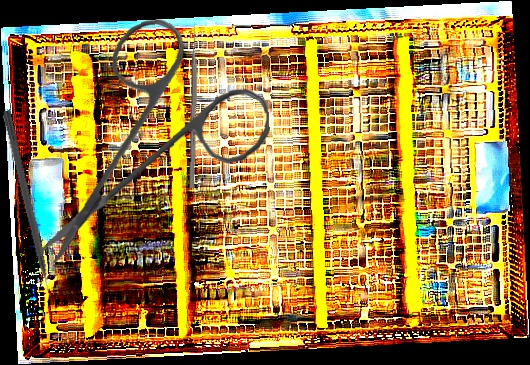Iris Scissors: (26, 12, 278, 264)
Pusher: (0, 109, 56, 308), (189, 21, 198, 189)
